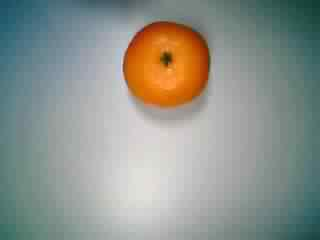orange: (119, 15, 214, 117)
